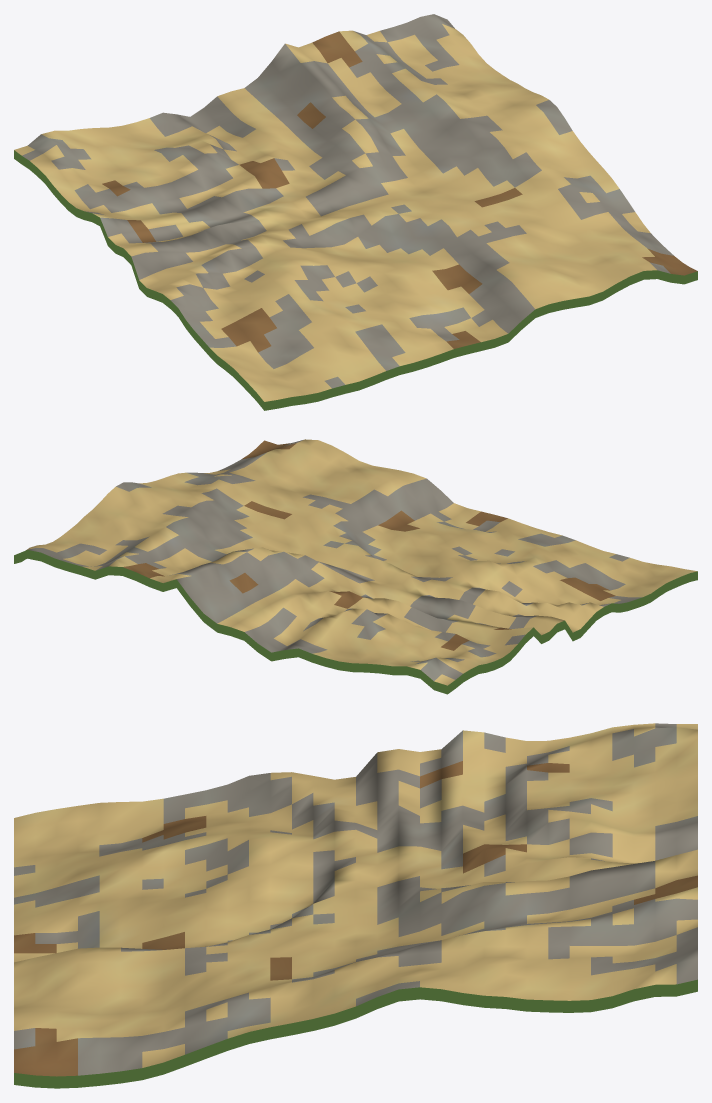
File: chunk_7_4_lod1.glb
The picture shows the model from 3 angles, top to bottom: view 1: azimuth 30°, elevation 25°; view 2: azimuth 150°, elevation 25°; view 3: azimuth 270°, elevation 25°; orthographic projection. The views are drawn at different scales.
Parts seen in each view (by area): view 1: Surface_Sand, Surface_Gravel, Skirt, Surface_Dirt; view 2: Surface_Sand, Surface_Gravel, Skirt, Surface_Dirt; view 3: Surface_Sand, Surface_Gravel, Skirt, Surface_Dirt.
Part boxes in pixels (x1,y1,x2,y2): Surface_Sand: (14,24,656,401); Surface_Gravel: (22,14,673,388); Skirt: (14,150,697,410); Surface_Dirt: (102,31,697,352); Surface_Sand: (26,439,696,685); Surface_Gravel: (28,440,642,680); Skirt: (14,550,697,694); Surface_Dirt: (123,440,615,650); Surface_Sand: (14,723,697,1067); Surface_Gravel: (14,723,697,1075); Skirt: (14,979,697,1088); Surface_Dirt: (14,761,697,1076).
Bounding box in the file's own units: 256 × 68.84 × 256.
